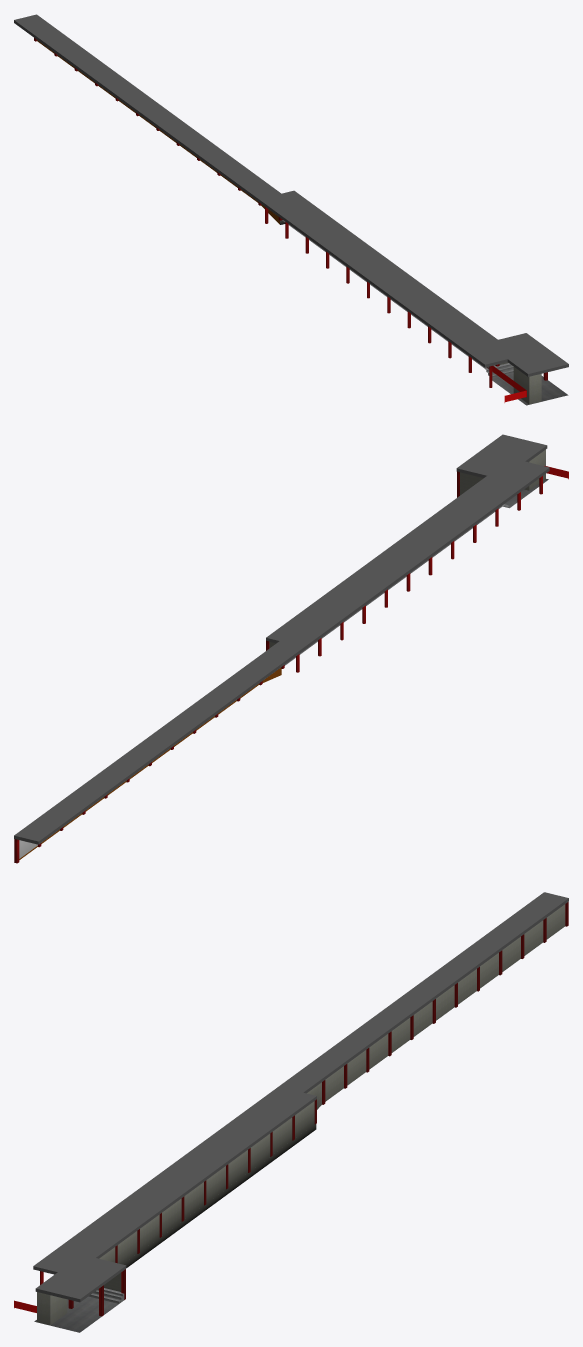
File: FUSHIMI_YANE_L.glb
The picture shows the model from 3 angles, top to bottom: view 1: azimuth 30°, elevation 25°; view 2: azimuth 150°, elevation 25°; view 3: azimuth 330°, elevation 25°; orthographic projection. The views are drawn at different scales.
Visible parts, largest first — view 1: obj20, bone22; view 2: obj20, bone22; view 3: obj20, bone22.
Boxes of the visible parts, x1,y1,x2,y2 form: obj20: (14, 14, 568, 376); bone22: (485, 362, 568, 405); obj20: (14, 434, 549, 859); bone22: (457, 449, 548, 508); obj20: (33, 892, 568, 1302); bone22: (34, 1269, 125, 1332).
Bounding box in the file's own units: 22.54 × 10.52 × 301.
37 materials, 37 textured.
